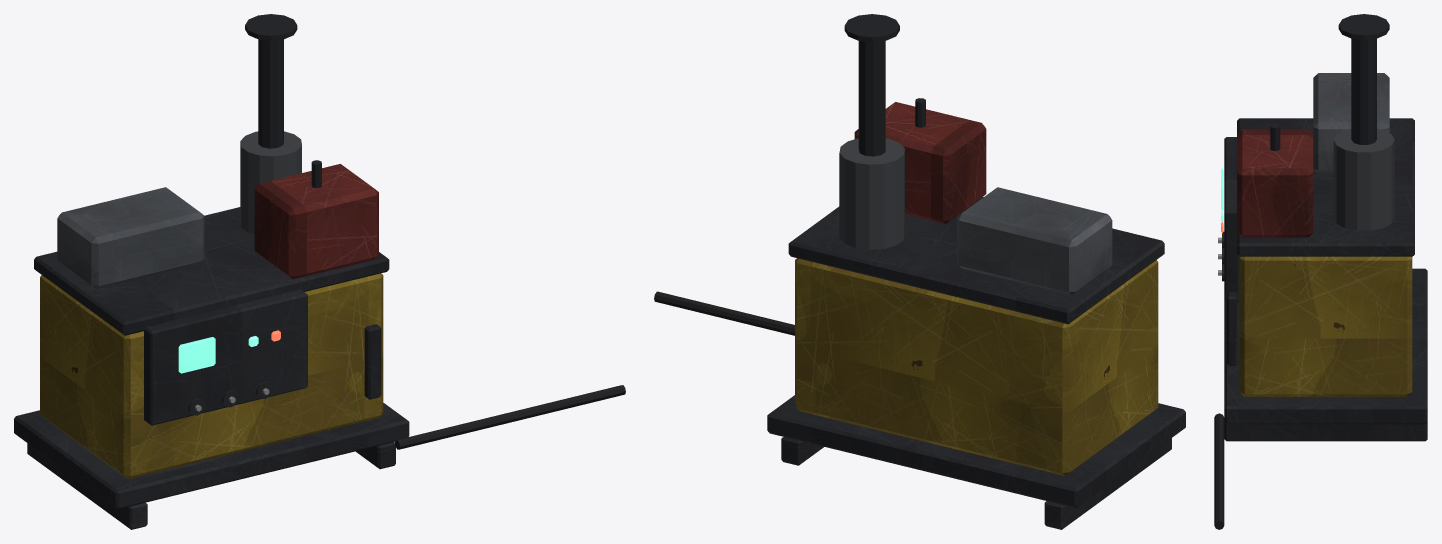
File: generator.glb
3 renders of one model, left to right at view 1: azimuth 30°, elevation 25°; view 2: azimuth 150°, elevation 25°; view 3: azimuth 270°, elevation 25°, orthographic. The views are drawn at different scales.
Visible parts, largest first — view 1: body; view 2: body; view 3: body.
Part boxes in pixels (<box>): body: <box>14,14,625,529</box>; body: <box>654,14,1185,529</box>; body: <box>1214,14,1427,529</box>.
Bounding box in the file's own units: 2.23 × 1.7 × 0.84.
Materials: 10 (7 with a texture image).
